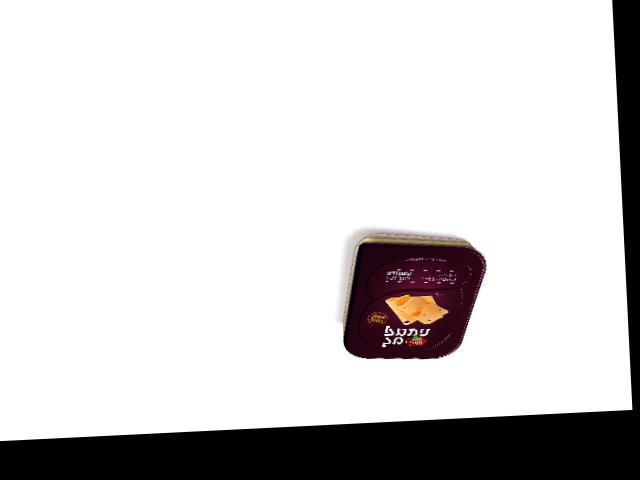cheese: (337, 229, 491, 364)
